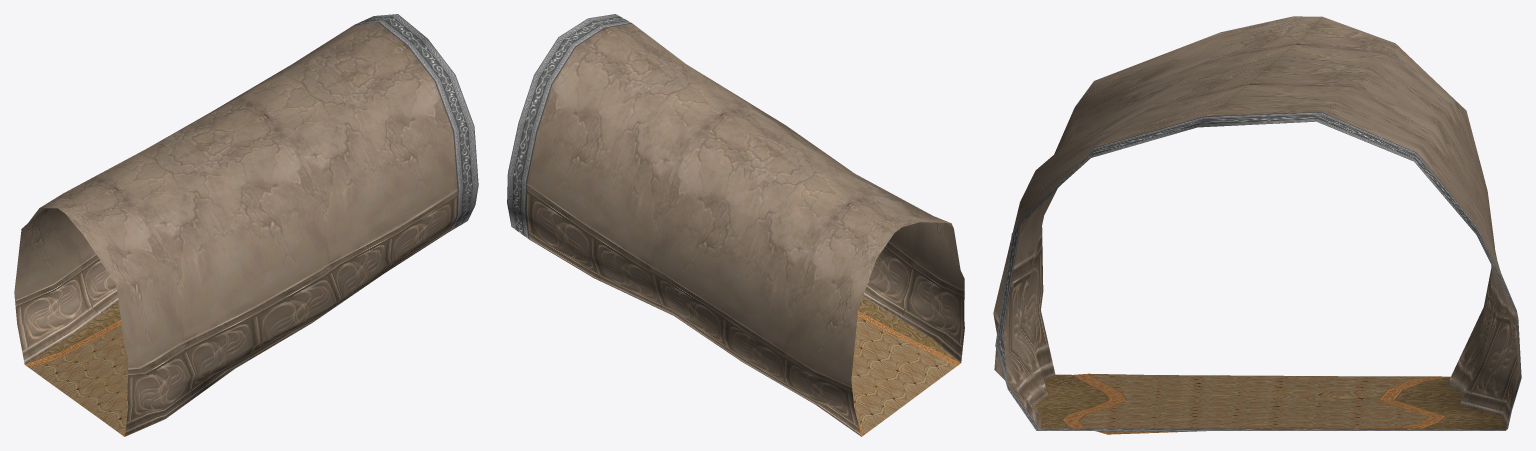
Rendered from EKH_JAIL_PS_JA_BARREL_HALL__GX.fbx.
3 renders of one model, left to right at view 1: azimuth 30°, elevation 25°; view 2: azimuth 150°, elevation 25°; view 3: azimuth 270°, elevation 25°, orthographic. The views are drawn at different scales.
Visible parts, largest first — view 1: EKH_JAIL_PS_JA_BARREL_HALL__GX; view 2: EKH_JAIL_PS_JA_BARREL_HALL__GX; view 3: EKH_JAIL_PS_JA_BARREL_HALL__GX.
Part boxes in pixels (x1,y1,x2,y2): EKH_JAIL_PS_JA_BARREL_HALL__GX: (14, 14, 478, 436); EKH_JAIL_PS_JA_BARREL_HALL__GX: (507, 14, 964, 436); EKH_JAIL_PS_JA_BARREL_HALL__GX: (993, 16, 1521, 434).
Bounding box in the file's own units: 56633 × 46831 × 38367.
5 materials, 5 textured.
